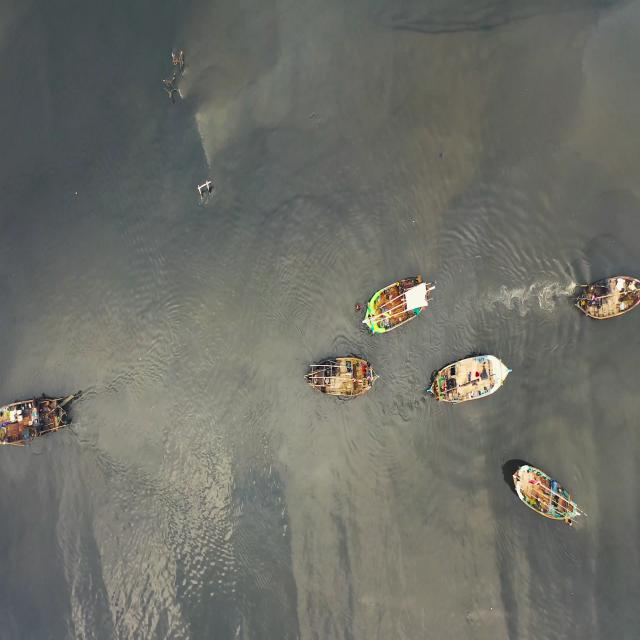ship: (362, 267, 438, 335), (513, 462, 586, 530), (426, 355, 514, 402), (304, 350, 378, 398), (2, 394, 78, 440), (576, 266, 636, 319)
